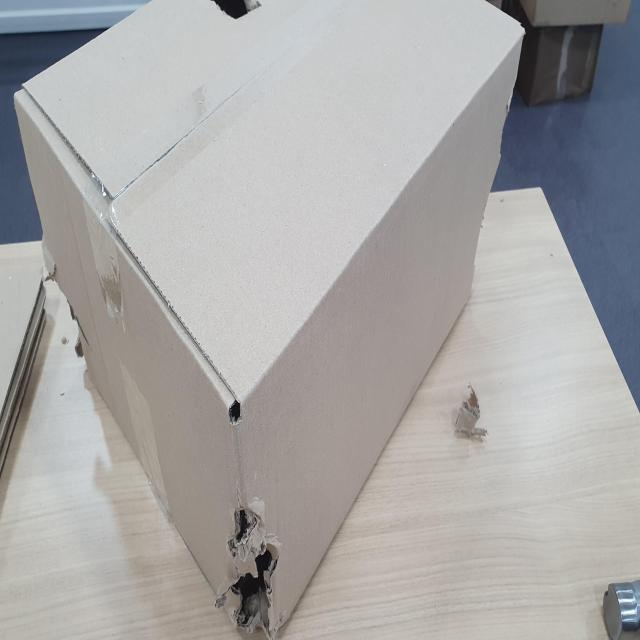damaged: (228, 502, 279, 638)
